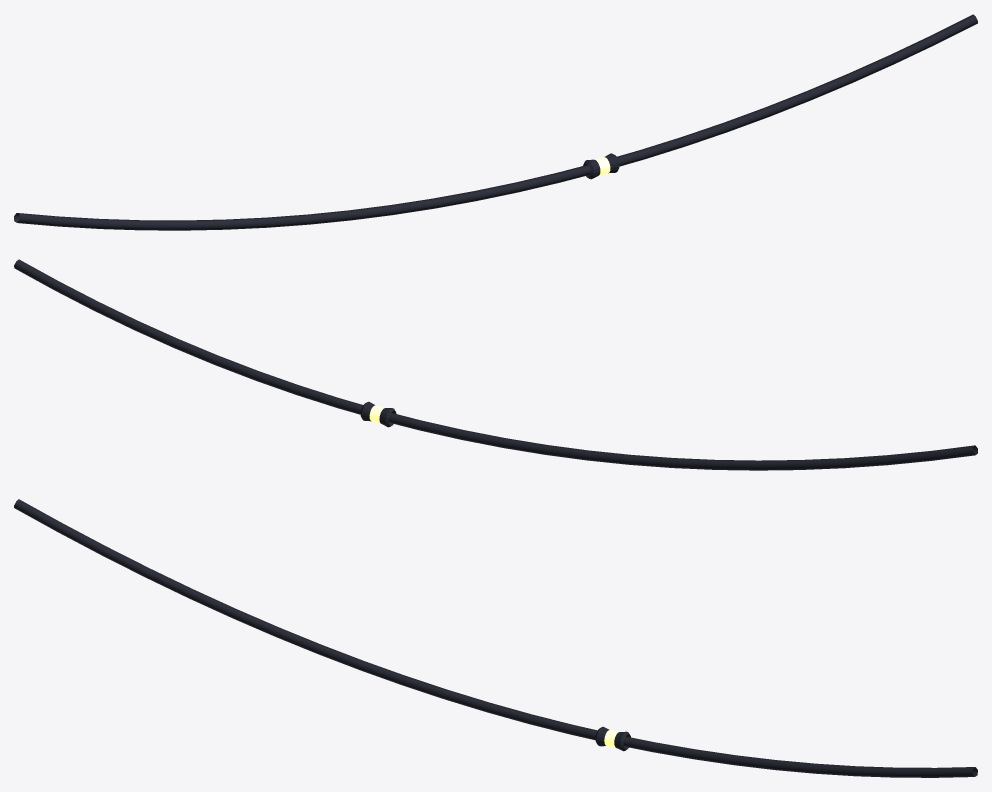
The model's file is SM_Wire_03.fbx.
3 views of the same model, one above another, from view 1: azimuth 30°, elevation 25°; view 2: azimuth 150°, elevation 25°; view 3: azimuth 330°, elevation 25° (orthographic).
Visible parts, largest first — view 1: SM_Wire_03; view 2: SM_Wire_03; view 3: SM_Wire_03.
Part boxes in pixels (bbox=[...]): SM_Wire_03: bbox=[14, 14, 977, 230]; SM_Wire_03: bbox=[14, 259, 977, 470]; SM_Wire_03: bbox=[14, 499, 977, 777].
Size of the model in its own units: 4001 by 452 by 129.
